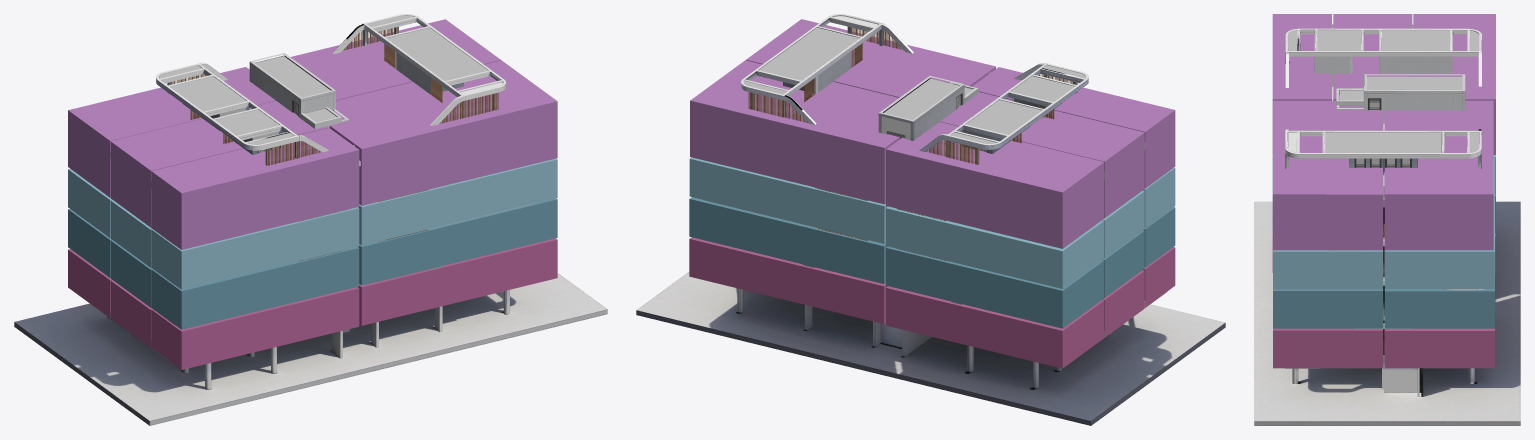
Rendered from TYPE_F__HITBOX_optimized.glb.
The picture shows the model from 3 angles, left to right: view 1: azimuth 30°, elevation 25°; view 2: azimuth 150°, elevation 25°; view 3: azimuth 270°, elevation 25°; orthographic projection.
Visible parts, largest first — view 1: Box001, Groun_ Floor001, Object_14572, ROOF_Block, Roof Top L, Roof Top R, RAILING - 028, G block001; view 2: Box001, Groun_ Floor001, Object_14572, Roof Top L, ROOF_Block, RAILING - 028, Roof Top R, G block001, Big WallL; view 3: Box001, Groun_ Floor001, Object_14572, ROOF_Block, Roof Top L, Roof Top R, G block001, SW - 024, D16.
Part boxes in pixels (left/top/right/bottom): Box001: left=68, top=19, right=557, bottom=369; Groun_ Floor001: left=14, top=273, right=607, bottom=425; Object_14572: left=159, top=15, right=487, bottom=144; ROOF_Block: left=182, top=27, right=495, bottom=165; Roof Top L: left=156, top=62, right=328, bottom=152; Roof Top R: left=332, top=14, right=506, bottom=125; RAILING - 028: left=167, top=26, right=498, bottom=261; G block001: left=110, top=290, right=509, bottom=389; Box001: left=689, top=19, right=1175, bottom=368; Groun_ Floor001: left=636, top=272, right=1225, bottom=425; Object_14572: left=743, top=27, right=1085, bottom=143; Roof Top L: left=919, top=63, right=1088, bottom=164; ROOF_Block: left=751, top=27, right=1076, bottom=153; RAILING - 028: left=748, top=27, right=1077, bottom=260; Roof Top R: left=741, top=14, right=913, bottom=124; G block001: left=737, top=288, right=1133, bottom=387; Big WallL: left=881, top=116, right=910, bottom=347; Box001: left=1272, top=14, right=1495, bottom=368; Groun_ Floor001: left=1254, top=201, right=1520, bottom=425; Object_14572: left=1288, top=30, right=1479, bottom=279; ROOF_Block: left=1286, top=56, right=1480, bottom=197; Roof Top L: left=1285, top=26, right=1481, bottom=87; Roof Top R: left=1285, top=129, right=1481, bottom=198; G block001: left=1292, top=364, right=1474, bottom=396; SW - 024: left=1350, top=56, right=1409, bottom=167; D16: left=1354, top=98, right=1411, bottom=167.
Bounding box in the file's own units: 39.02 × 19.35 × 20.
33 materials, 26 textured.
